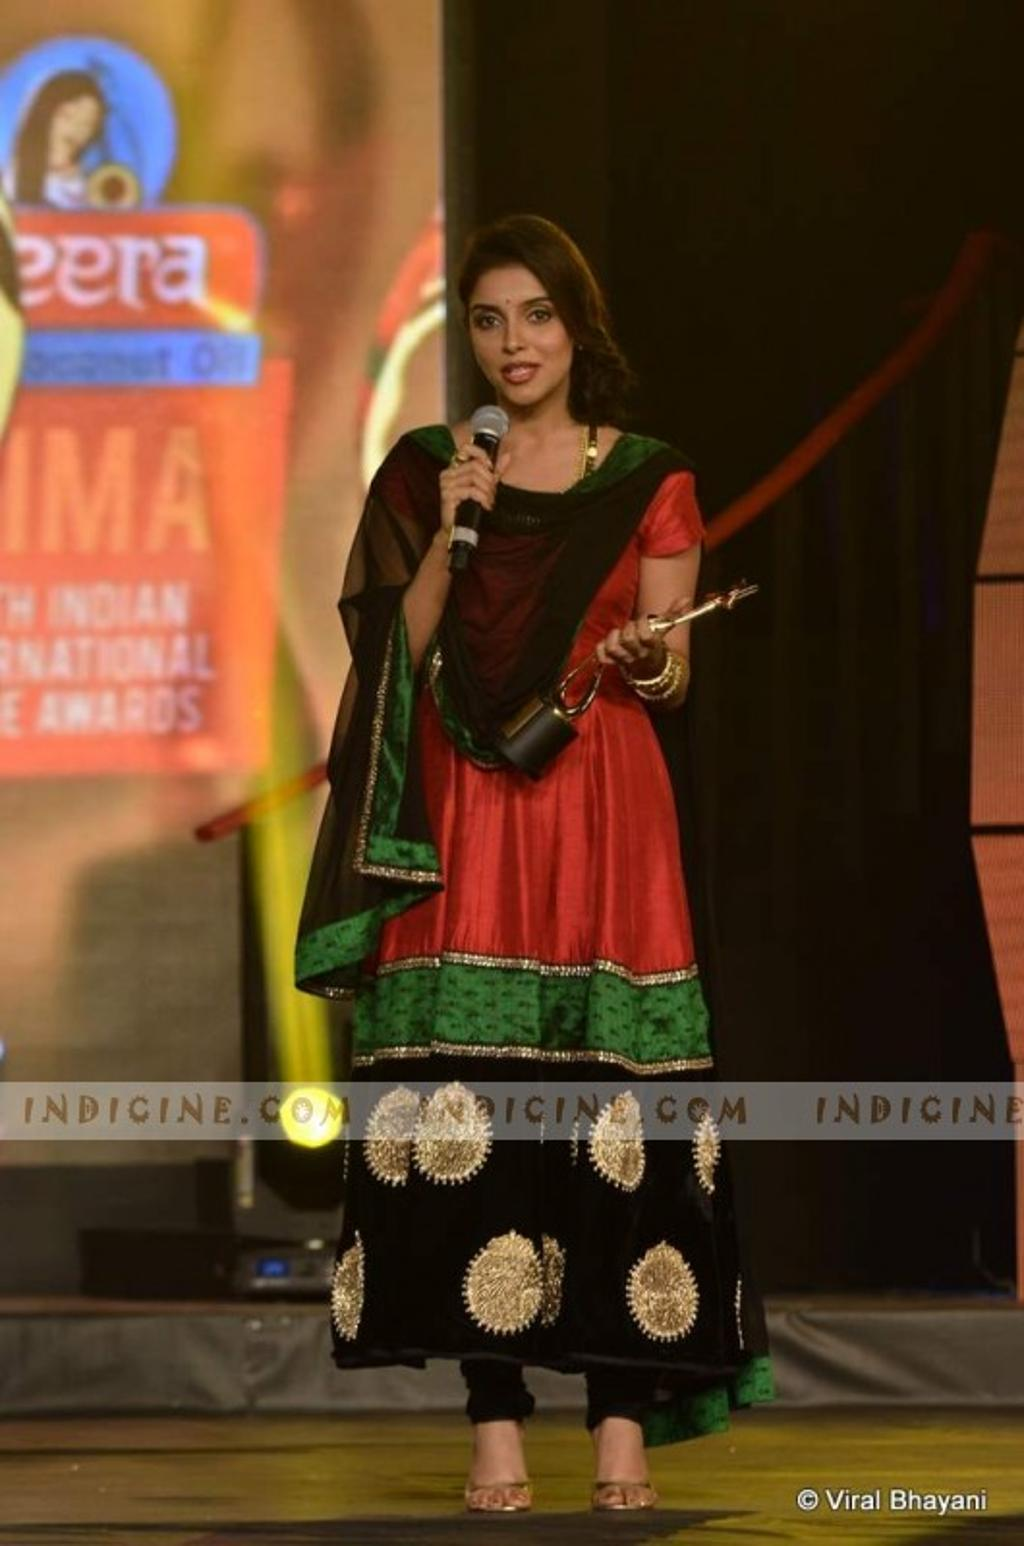face: (462, 254, 577, 405)
